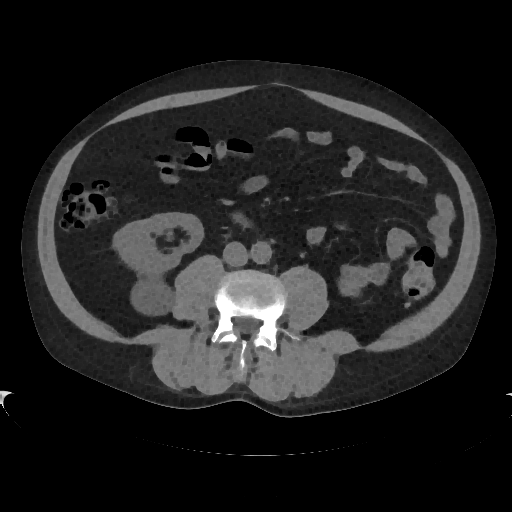Lesion: (130, 274, 174, 316)
